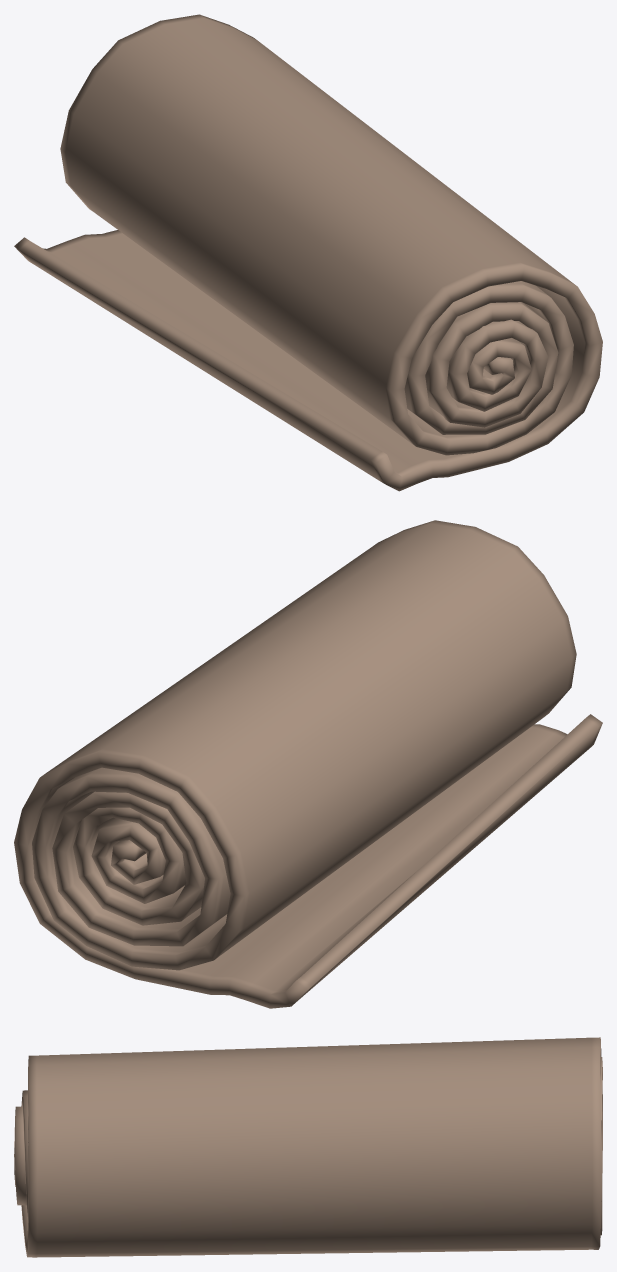
3 views of the same model, one above another, from view 1: azimuth 30°, elevation 25°; view 2: azimuth 150°, elevation 25°; view 3: azimuth 270°, elevation 25° (orthographic). The views are drawn at different scales.
Visible parts, largest first — view 1: SM_Cloth_Linen_01_LOD0; view 2: SM_Cloth_Linen_01_LOD0; view 3: SM_Cloth_Linen_01_LOD0.
Boxes of the visible parts, box(x1,y1,x2,y2) form: SM_Cloth_Linen_01_LOD0: box(14, 14, 602, 491); SM_Cloth_Linen_01_LOD0: box(14, 520, 602, 1008); SM_Cloth_Linen_01_LOD0: box(14, 1037, 602, 1257).
Bounding box in the file's own units: 0.2412 × 0.1779 × 0.5041.
